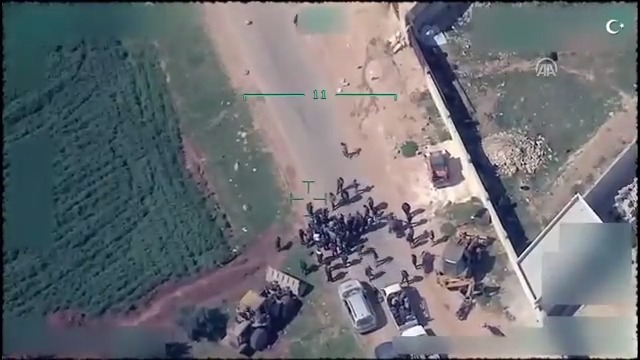arac: (216, 261, 311, 355), (431, 228, 494, 320), (379, 278, 427, 332), (337, 276, 375, 332), (425, 146, 457, 187)
insan: (401, 199, 417, 224), (397, 266, 413, 287), (313, 246, 328, 267), (271, 234, 286, 253), (362, 261, 376, 281), (409, 249, 423, 268), (338, 141, 350, 163), (362, 200, 372, 222), (335, 175, 347, 192)
